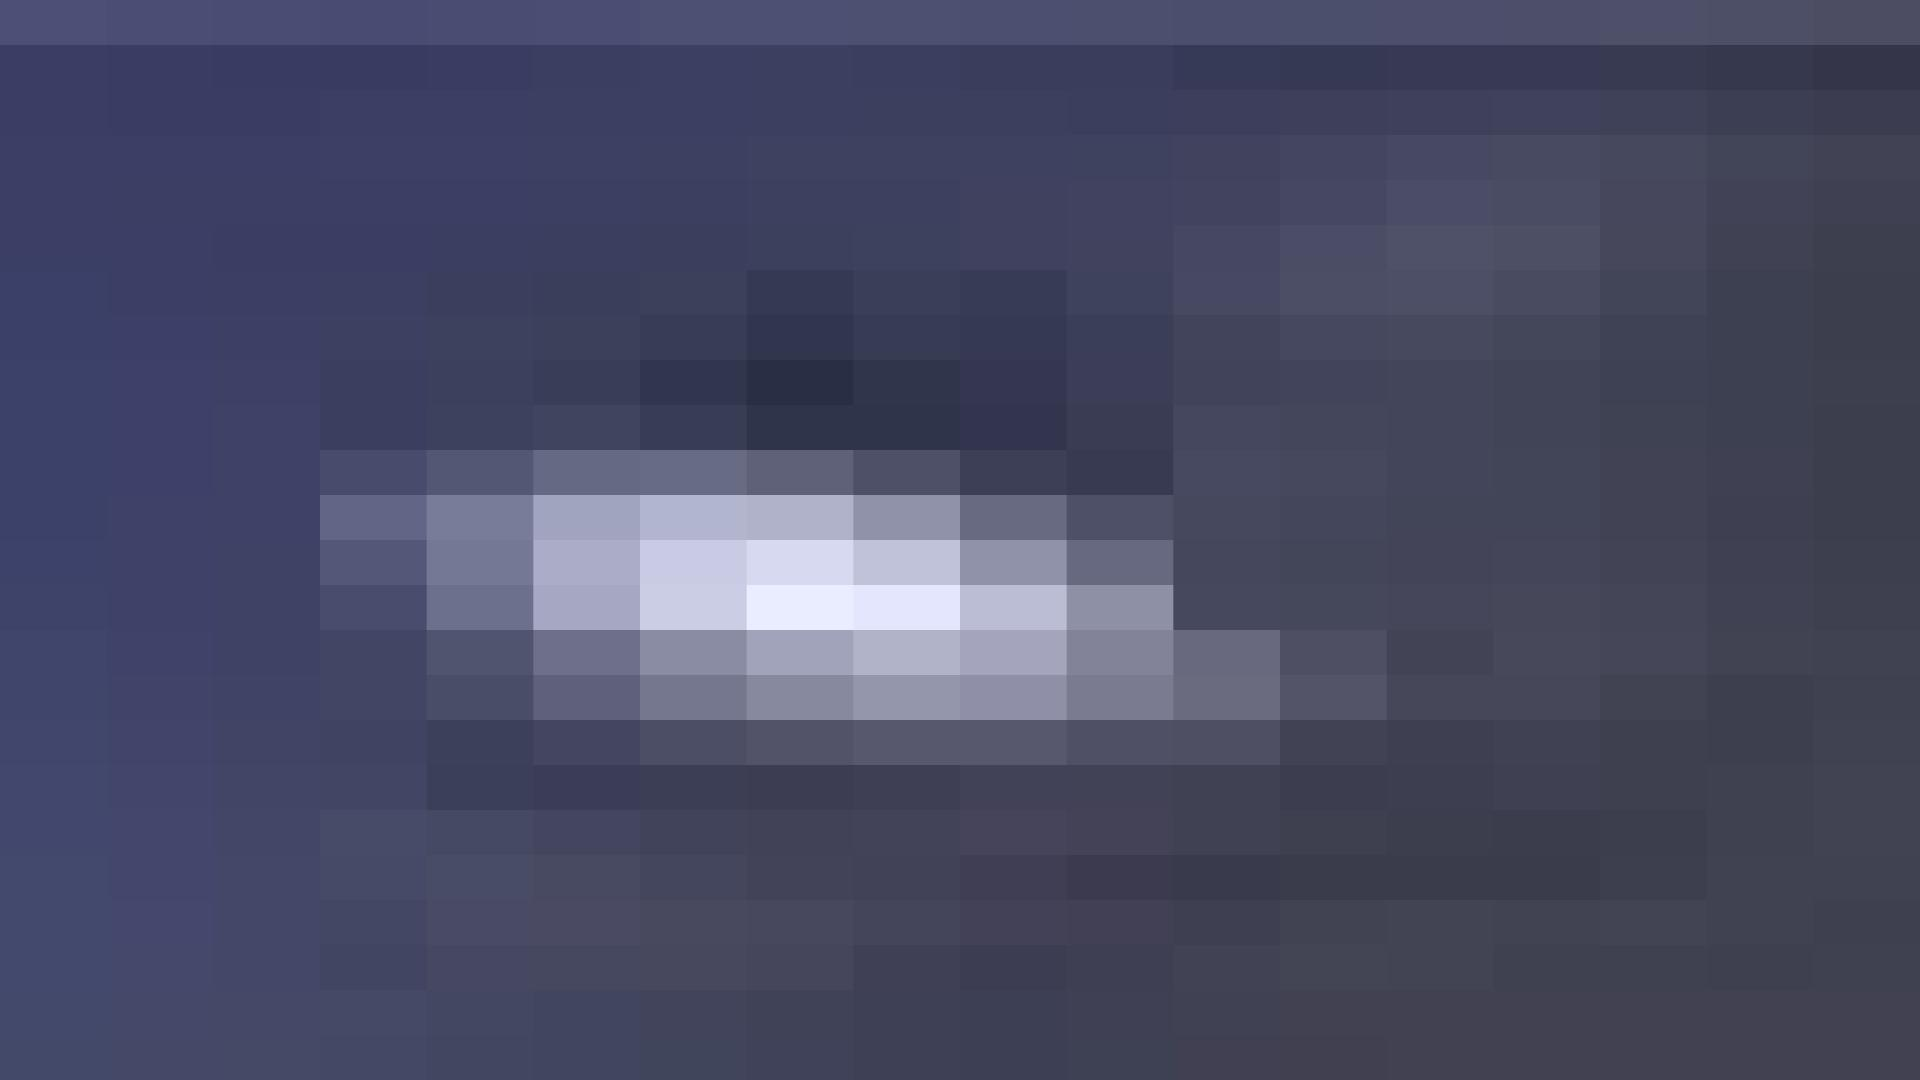Squash-Ball: (0, 45, 1920, 1080)
